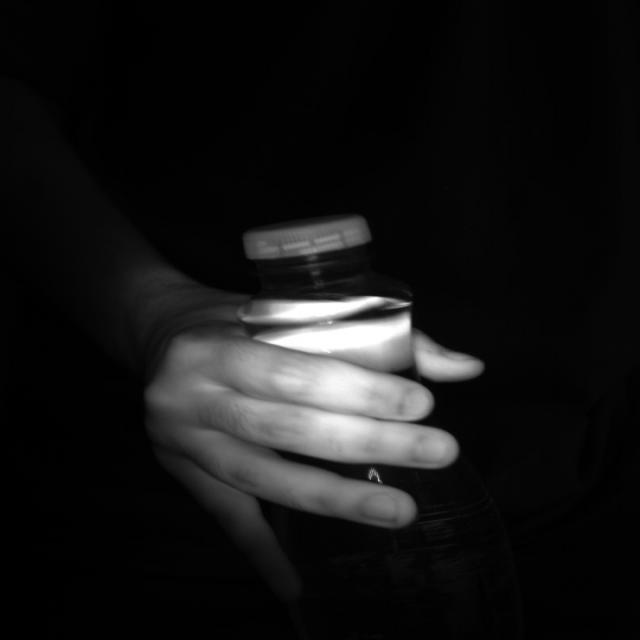Not Good: (240, 217, 377, 274)
